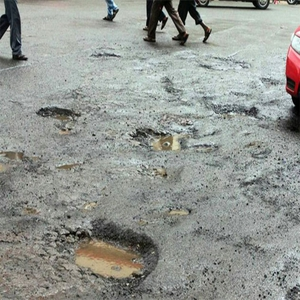pothole: (60, 219, 161, 291), (128, 125, 221, 152), (37, 103, 84, 124)
